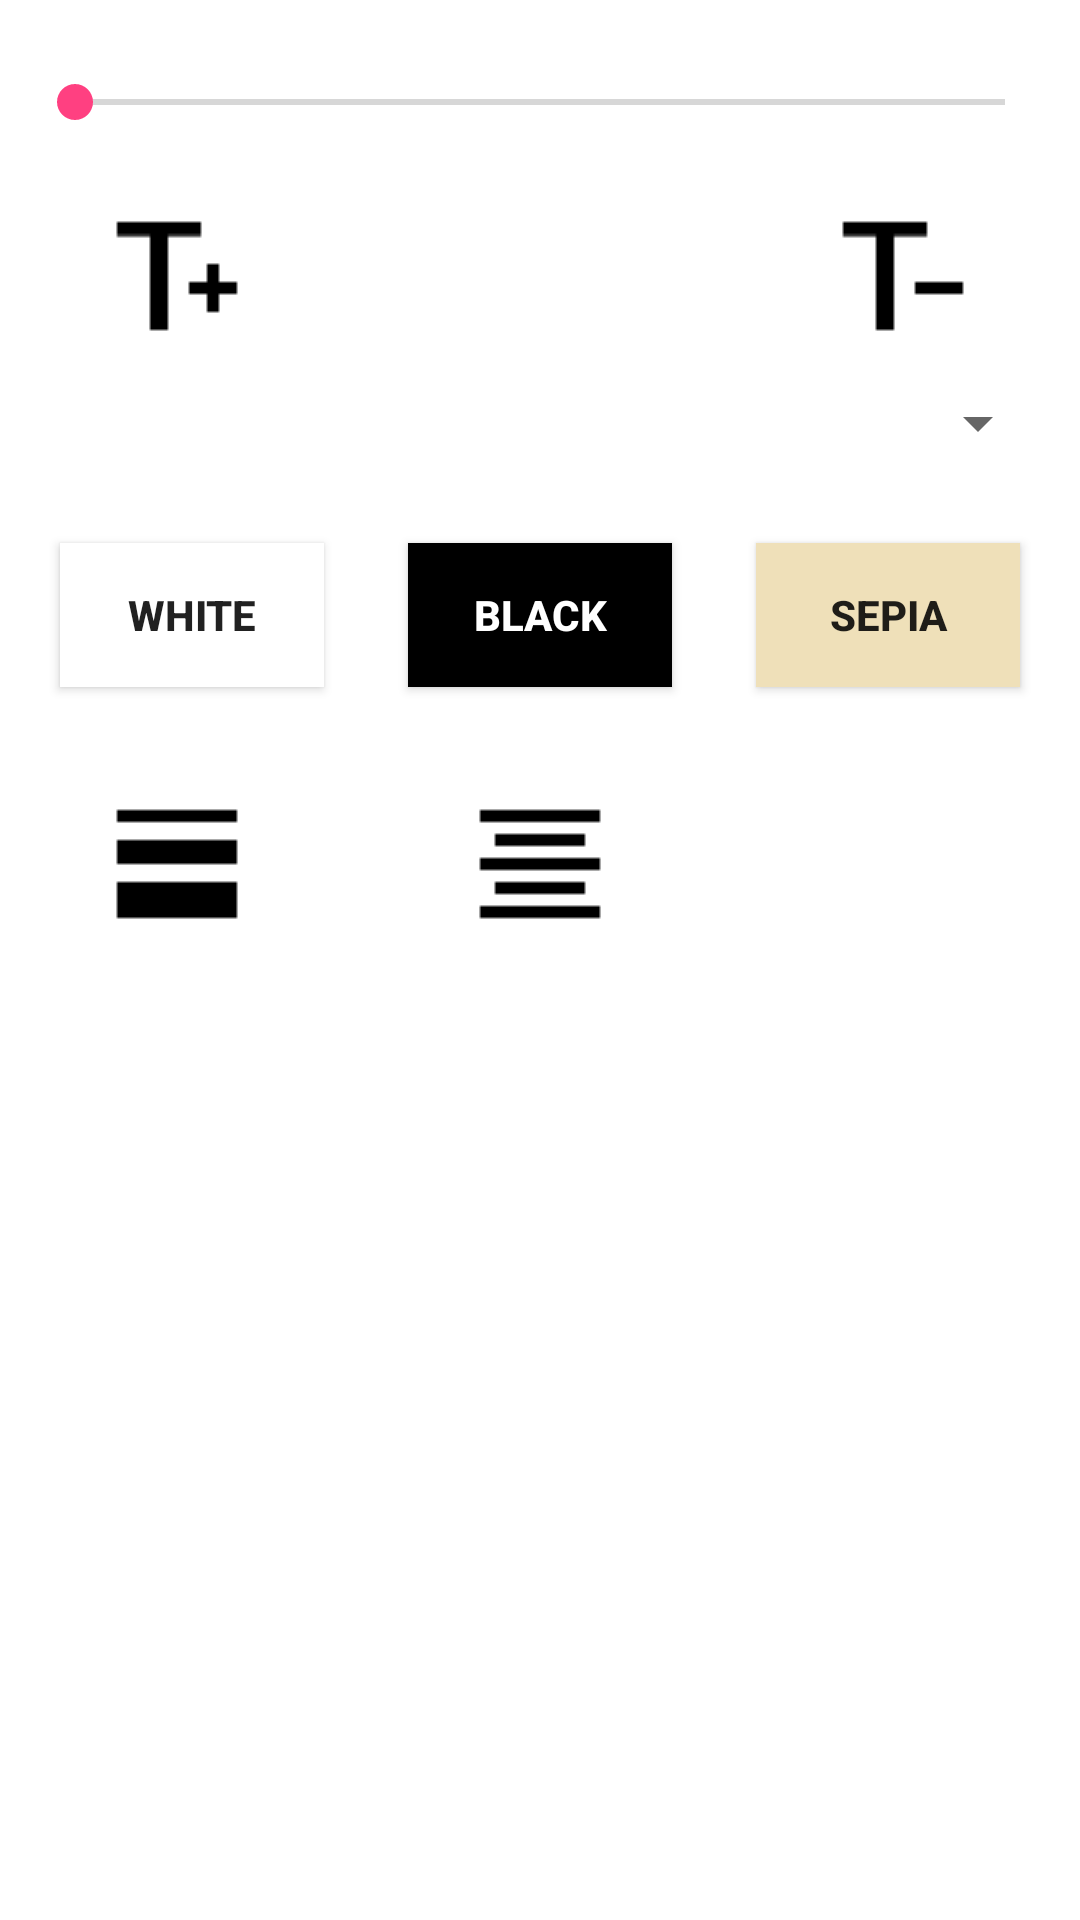

Icon bounding boxes for this 1080w x 1920h phone screenshot, format (x1, y1, x2, y2):
aligncenter: (479, 809, 601, 919)
decreasefont: (842, 221, 964, 331)
increasefont: (116, 221, 238, 331)
linewidth: (116, 809, 238, 919)
